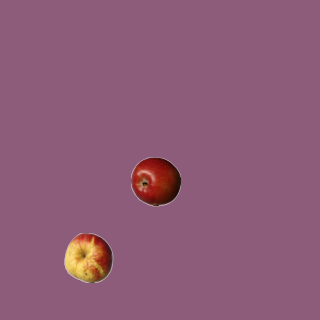Apple Braeburn: (130, 156, 180, 206)
Apple Red Yellow 1: (63, 232, 113, 282)
